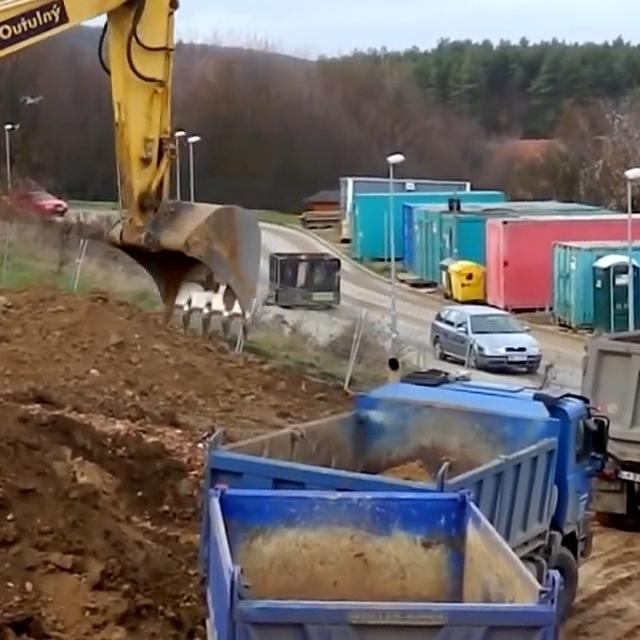Excavator: (0, 0, 264, 493)
machinery: (207, 376, 610, 625), (196, 484, 553, 640)
vehicle: (430, 304, 543, 375), (12, 185, 68, 217)
